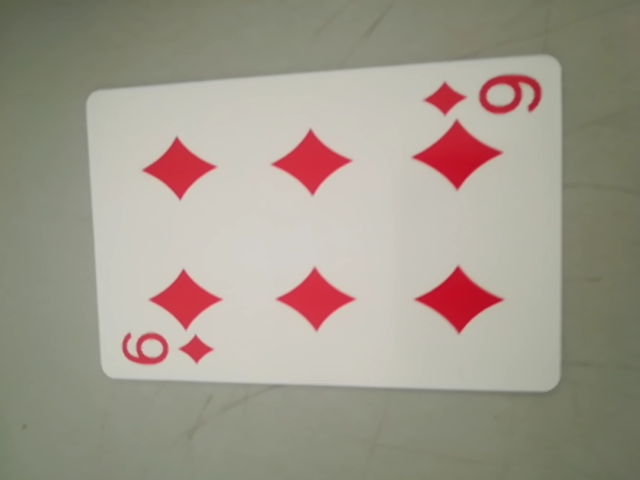fk 6: (425, 66, 544, 125), (116, 326, 214, 375)
